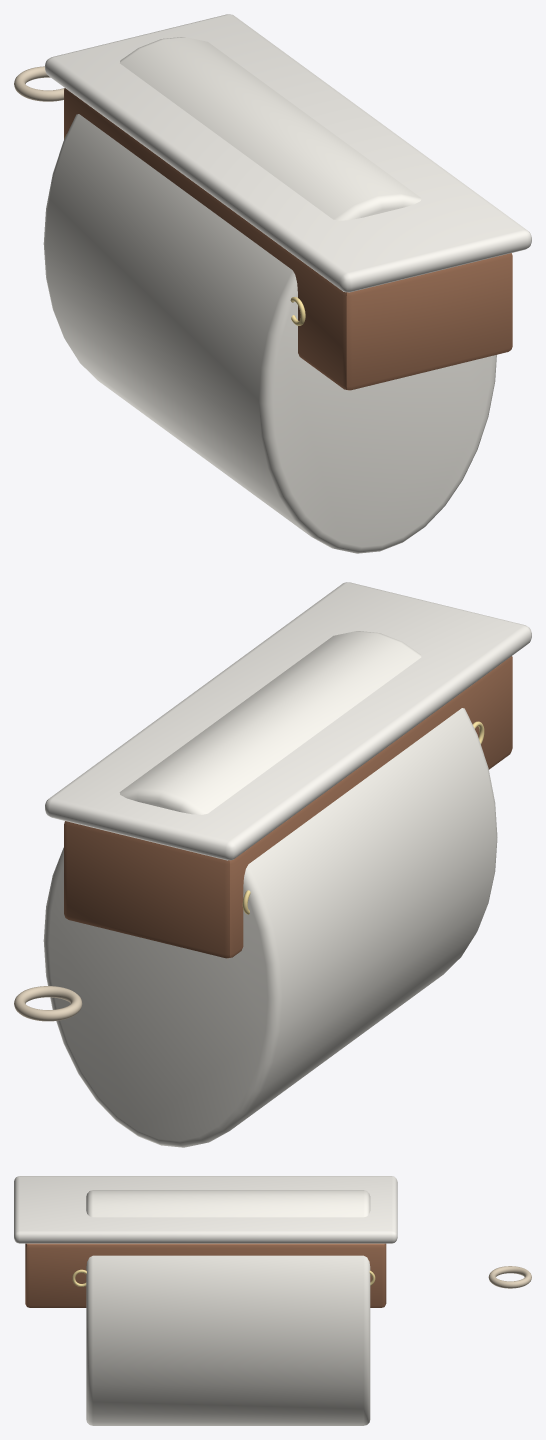
Rendered from moored-wooden-salon-boat.glb.
3 renders of one model, top to bottom at view 1: azimuth 30°, elevation 25°; view 2: azimuth 150°, elevation 25°; view 3: azimuth 270°, elevation 25°, orthographic. The views are drawn at different scales.
Parts seen in each view (by area): view 1: boat_CreamHull, boat_CanvasCanopy, boat_MahoganyCabin, boat_CoiledMooringRope; view 2: boat_CreamHull, boat_CanvasCanopy, boat_MahoganyCabin, boat_CoiledMooringRope; view 3: boat_CreamHull, boat_CanvasCanopy, boat_MahoganyCabin, boat_CoiledMooringRope.
Boxes of the visible parts, bbox=[...] form: boat_CreamHull: bbox=[43, 37, 496, 553]; boat_CanvasCanopy: bbox=[45, 14, 531, 292]; boat_MahoganyCabin: bbox=[64, 88, 512, 390]; boat_CoiledMooringRope: bbox=[14, 66, 64, 101]; boat_CreamHull: bbox=[43, 631, 497, 1147]; boat_CanvasCanopy: bbox=[45, 582, 531, 860]; boat_MahoganyCabin: bbox=[64, 656, 512, 958]; boat_CoiledMooringRope: bbox=[14, 986, 82, 1021]; boat_CreamHull: bbox=[86, 1190, 370, 1425]; boat_CanvasCanopy: bbox=[14, 1176, 397, 1243]; boat_MahoganyCabin: bbox=[25, 1243, 386, 1307]; boat_CoiledMooringRope: bbox=[488, 1266, 531, 1288].
Size of the model in its own units: 0.77 by 1.1 by 2.3.
